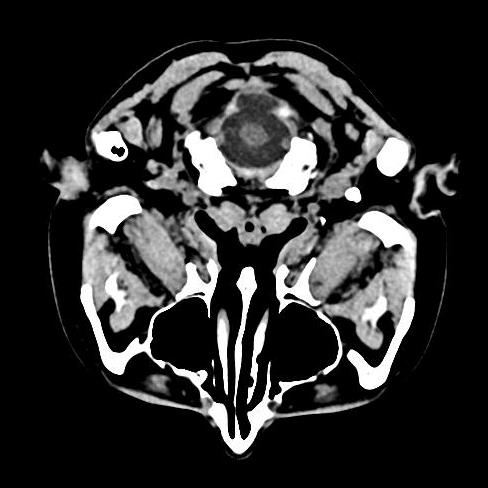Normal_Brain: (36, 29, 444, 471)
